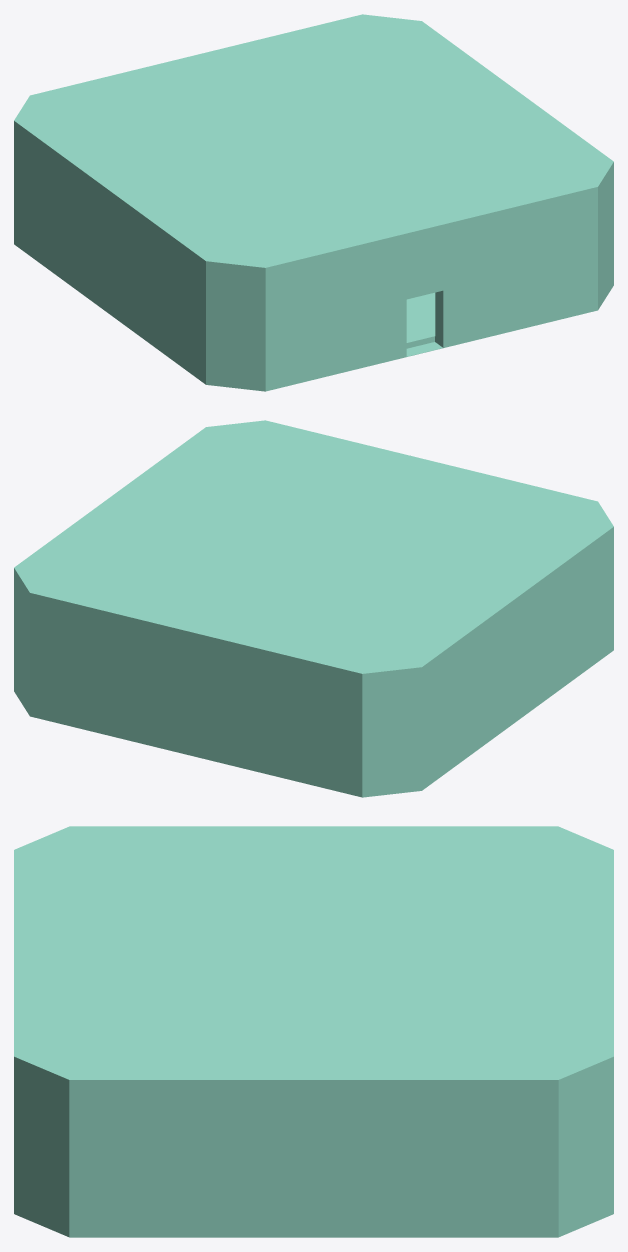
File: habitacion01.fbx
3 views of the same model, one above another, from view 1: azimuth 30°, elevation 25°; view 2: azimuth 150°, elevation 25°; view 3: azimuth 270°, elevation 25° (orthographic). The views are drawn at different scales.
Visible parts, largest first — view 1: Cube.002; view 2: Cube.002; view 3: Cube.002.
Boxes of the visible parts, bbox=[...] form: Cube.002: bbox=[14, 14, 613, 391]; Cube.002: bbox=[14, 420, 613, 797]; Cube.002: bbox=[14, 826, 613, 1237].
Size of the model in its own units: 2210 by 640 by 2210.
